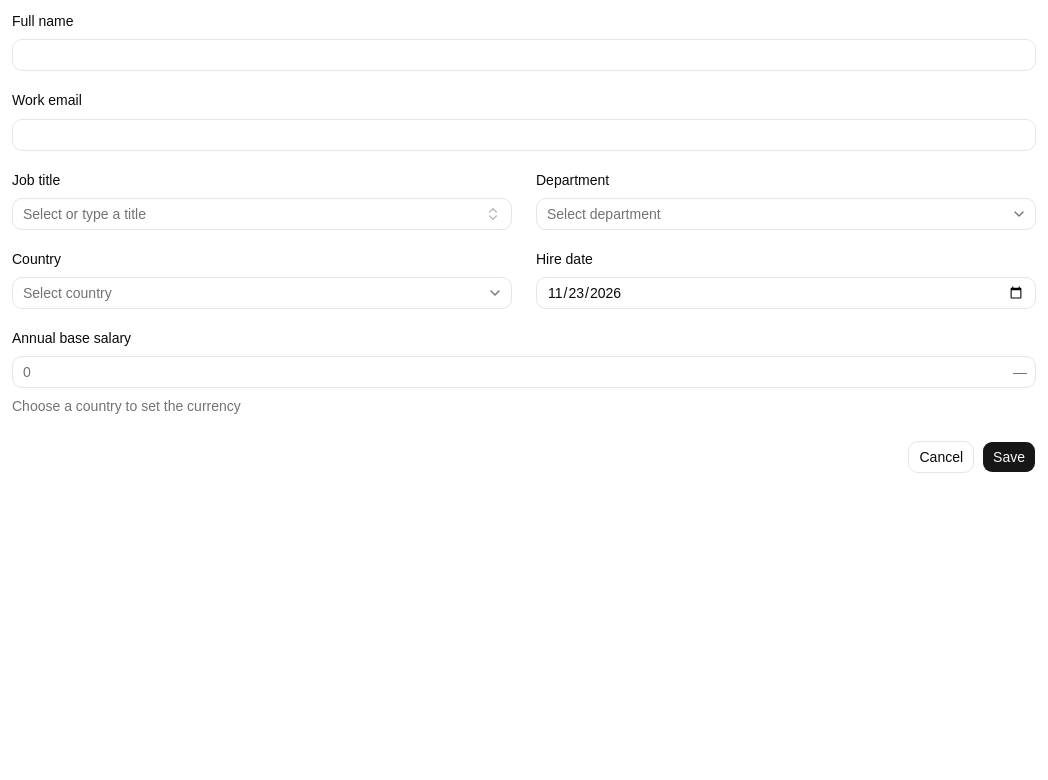
EmployeeForm › shows validation errors and does not submit an empty form
Click the button "Save".
click(1009, 457)  # box [982,441,1036,473]
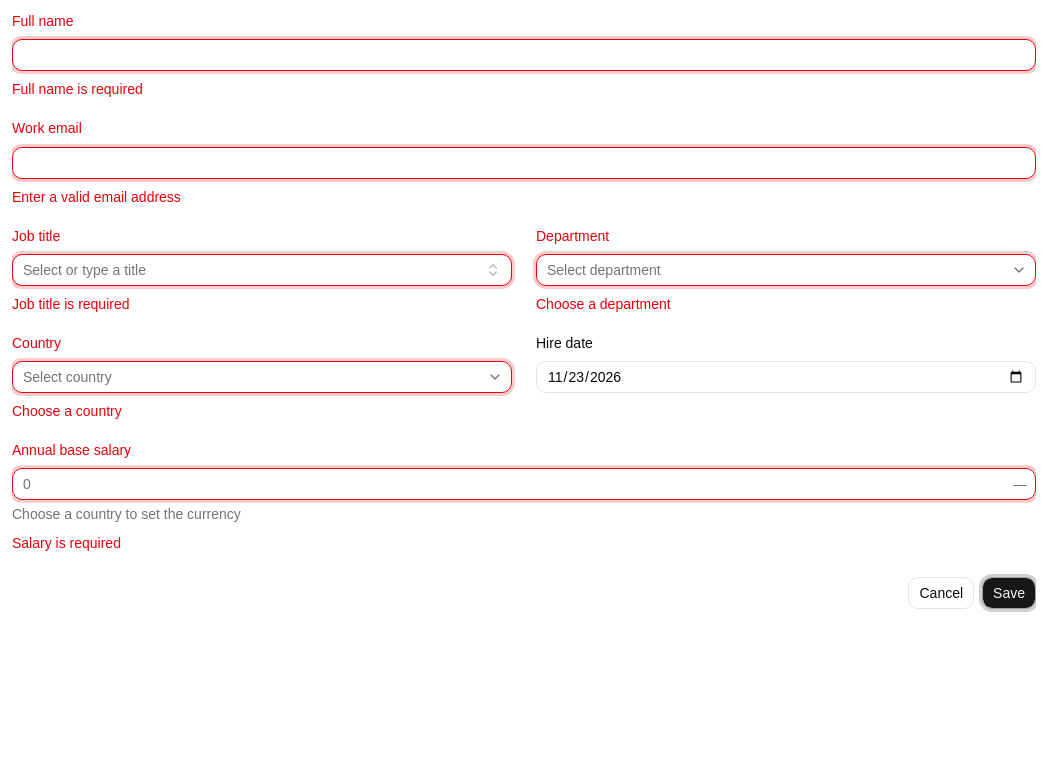
Expected: the text "Full name is required" is shown, [12,81,143,97]
Expected: the text "Enter a valid email address" is shown, [12,188,181,204]
Expected: the text "Salary is required" is shown, [12,535,121,551]
